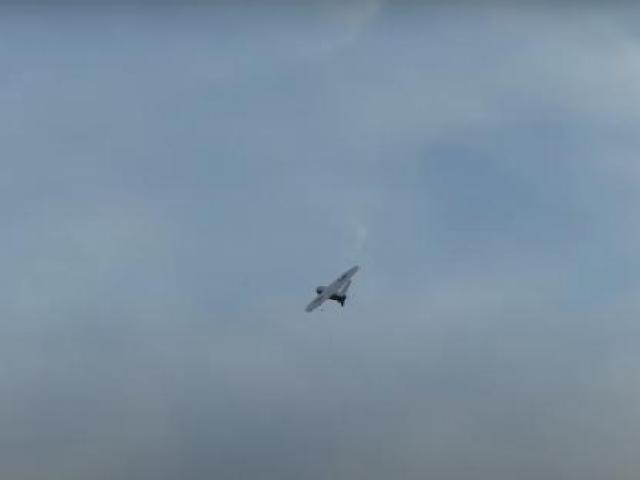uav: (300, 257, 366, 325)
